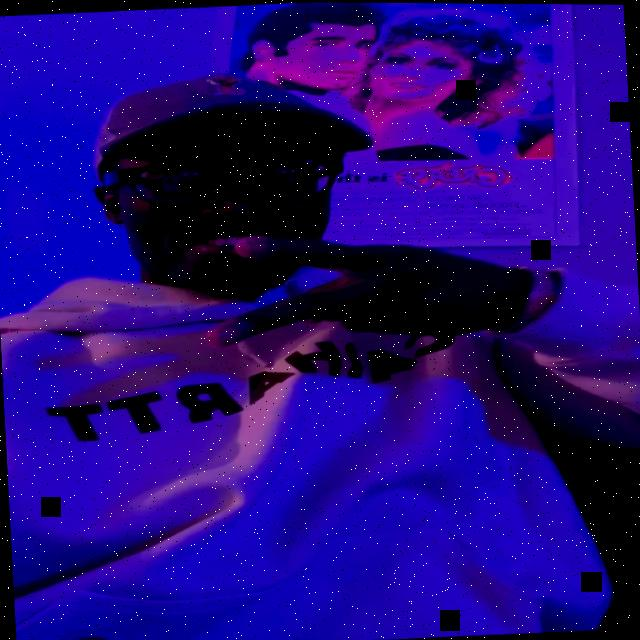Scissors: (202, 217, 538, 353)
